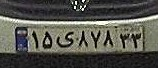character: (54, 27, 76, 52), (39, 28, 55, 52), (76, 27, 90, 54), (116, 27, 131, 51), (89, 27, 103, 52), (102, 27, 115, 52), (131, 26, 143, 50), (29, 29, 41, 52)
